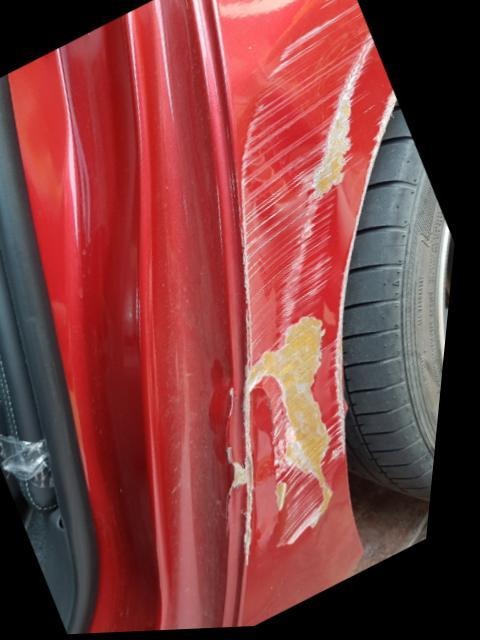scratch: (245, 0, 397, 552)
